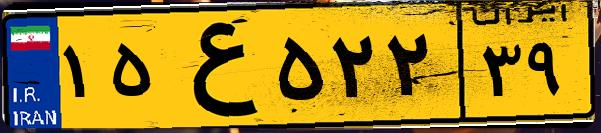1: (57, 26, 110, 100)
2: (385, 28, 445, 110), (330, 28, 385, 110)
3: (475, 38, 525, 113)
5: (270, 28, 330, 110), (110, 28, 158, 98)
9: (525, 38, 570, 115)
ع: (158, 12, 270, 120)
